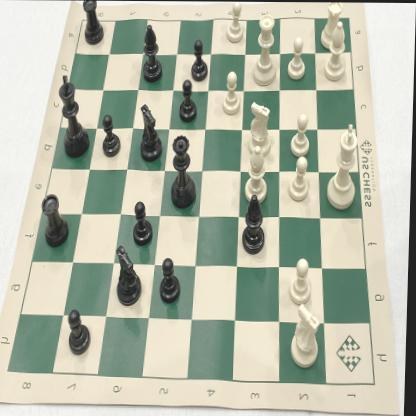black-bishop: (114, 241, 145, 311), (239, 192, 272, 255), (137, 20, 167, 86), (138, 101, 165, 164)
black-king: (56, 69, 95, 162)
black-pawn: (68, 305, 95, 359), (131, 199, 158, 250), (159, 255, 186, 306), (100, 111, 124, 161), (188, 38, 213, 84), (178, 77, 200, 125)
black-queen: (169, 132, 199, 212)
black-rook: (40, 190, 73, 249), (80, 0, 107, 49)
white-bishop: (322, 20, 350, 83), (245, 144, 270, 204)
white-king: (323, 120, 362, 213)
white-knight: (288, 303, 324, 370), (247, 99, 275, 158)
white-pawn: (289, 255, 316, 308), (288, 154, 313, 205), (289, 110, 313, 160), (221, 69, 244, 119), (285, 35, 308, 83), (225, 2, 245, 48)
white-queen: (249, 9, 281, 90)
white-rook: (318, 2, 345, 50)
